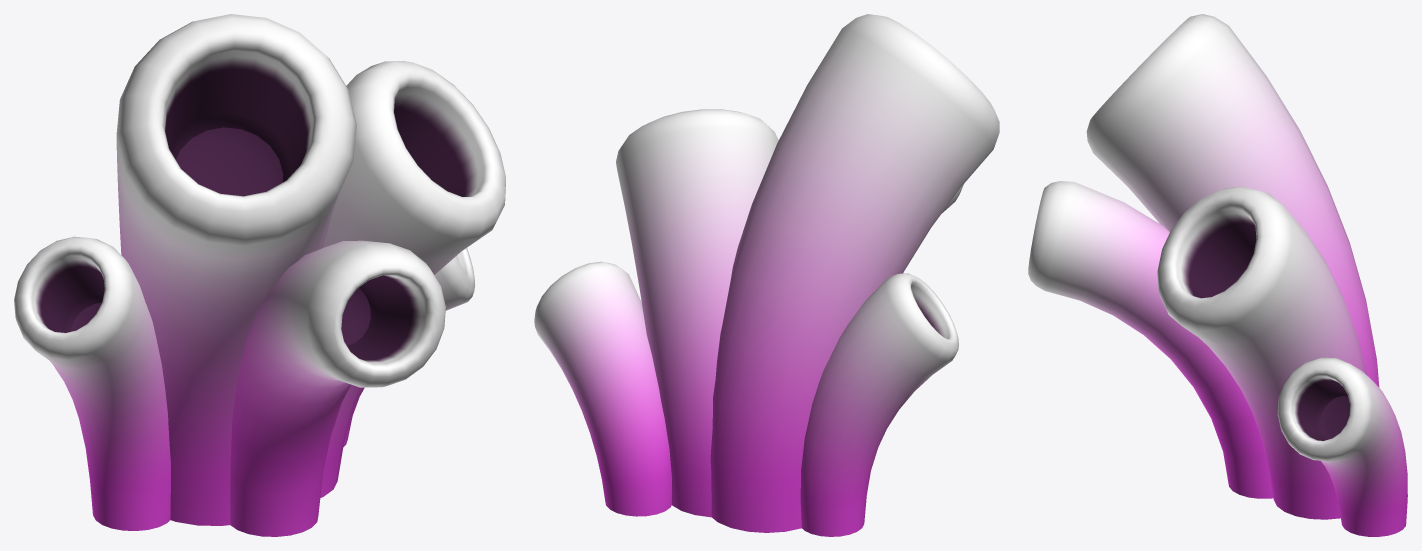
The model's file is SM_Coral_Bunch03.fbx.
The picture shows the model from 3 angles, left to right: view 1: azimuth 30°, elevation 25°; view 2: azimuth 150°, elevation 25°; view 3: azimuth 270°, elevation 25°; orthographic projection. The views are drawn at different scales.
Parts seen in each view (by area): view 1: Coral_Base9, Coral_Base10, Coral_Base13, Coral_Base11, Coral_Base12; view 2: Coral_Base9, Coral_Base11, Coral_Base13, Coral_Base12; view 3: Coral_Base9, Coral_Base11, Coral_Base10, Coral_Base12.
Boxes of the visible parts, x1,y1,x2,y2 form: Coral_Base9: (116, 14, 356, 525); Coral_Base10: (230, 240, 445, 536); Coral_Base13: (14, 236, 170, 530); Coral_Base11: (320, 61, 505, 497); Coral_Base12: (343, 248, 475, 446); Coral_Base9: (710, 14, 999, 532); Coral_Base11: (616, 109, 778, 517); Coral_Base13: (800, 273, 958, 536); Coral_Base12: (534, 261, 671, 516); Coral_Base9: (1086, 14, 1379, 387); Coral_Base11: (1157, 186, 1367, 519); Coral_Base10: (1028, 181, 1273, 498); Coral_Base12: (1277, 357, 1407, 536).
Bounding box in the file's own units: 2.05 × 2.28 × 1.83.
Materials: 1 (1 with a texture image).
